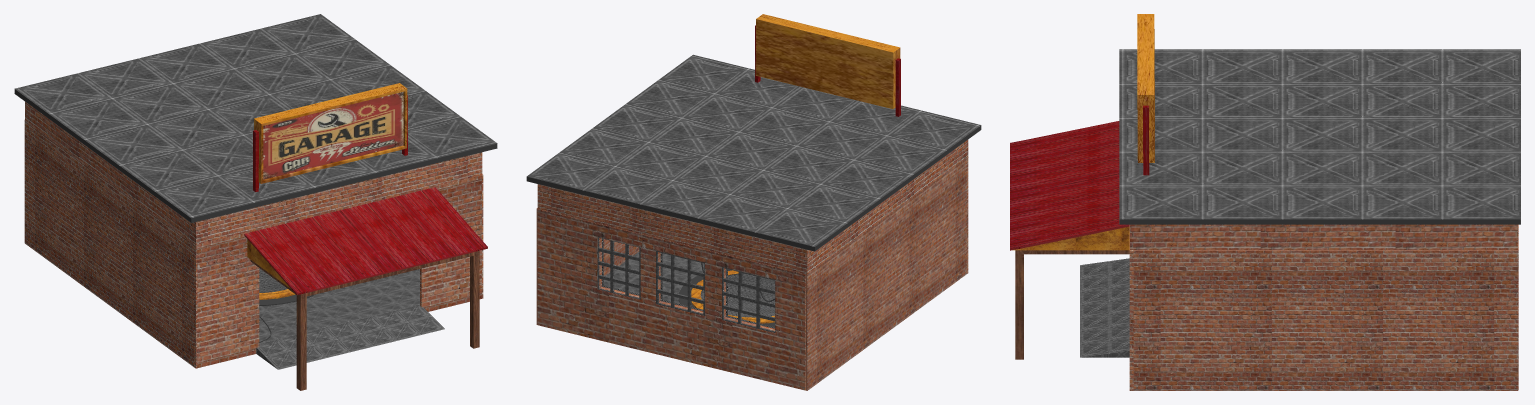
Rendered from garage.glb.
3 views of the same model, side by side, from view 1: azimuth 30°, elevation 25°; view 2: azimuth 150°, elevation 25°; view 3: azimuth 270°, elevation 25° (orthographic). The views are drawn at different scales.
Visible parts, largest first — view 1: Cube_Material.002_0, Plane_wALL_0, Cube.002_rEDmETAL.001_0, Plane.005_Material.001_0, Cube.018_Material.007_0, Circle_Wires_0, Cube.005_WoodenTable_0, Cube.001_Material.003_0, Circle_YellowMetal_0; view 2: Plane_wALL_0, Cube_Material.002_0, Cube.001_Material.003_0, Circle_Wires_0, Circle_ImageTexture_0, Plane.005_Material.001_0, Cube.002_rEDmETAL.001_0, Circle_YellowMetal_0; view 3: Cube_Material.002_0, Plane_wALL_0, Cube.002_rEDmETAL.001_0, Plane.005_Material.001_0, Circle_Wires_0, Cube.001_Material.003_0, Cube.005_WoodenTable_0, Circle_YellowMetal_0.
Part boxes in pixels (x1=…): Cube_Material.002_0: x1=14, y1=14, x2=497, y2=245; Plane_wALL_0: x1=24, y1=102, x2=483, y2=368; Cube.002_rEDmETAL.001_0: x1=244, y1=95, x2=487, y2=294; Plane.005_Material.001_0: x1=256, y1=269, x2=444, y2=369; Cube.018_Material.007_0: x1=263, y1=91, x2=403, y2=179; Circle_Wires_0: x1=14, y1=89, x2=497, y2=342; Cube.005_WoodenTable_0: x1=250, y1=251, x2=479, y2=390; Cube.001_Material.003_0: x1=254, y1=83, x2=407, y2=183; Circle_YellowMetal_0: x1=247, y1=239, x2=295, y2=299; Plane_wALL_0: x1=536, y1=140, x2=968, y2=390; Cube_Material.002_0: x1=527, y1=54, x2=980, y2=332; Cube.001_Material.003_0: x1=755, y1=14, x2=900, y2=108; Circle_Wires_0: x1=526, y1=125, x2=981, y2=326; Circle_ImageTexture_0: x1=602, y1=238, x2=774, y2=328; Plane.005_Material.001_0: x1=603, y1=251, x2=704, y2=303; Cube.002_rEDmETAL.001_0: x1=755, y1=25, x2=900, y2=116; Circle_YellowMetal_0: x1=691, y1=270, x2=774, y2=323; Cube_Material.002_0: x1=1119, y1=49, x2=1520, y2=224; Plane_wALL_0: x1=1129, y1=224, x2=1518, y2=390; Cube.002_rEDmETAL.001_0: x1=1010, y1=105, x2=1149, y2=250; Plane.005_Material.001_0: x1=1080, y1=258, x2=1129, y2=357; Circle_Wires_0: x1=1119, y1=219, x2=1520, y2=224; Cube.001_Material.003_0: x1=1137, y1=14, x2=1154, y2=162; Cube.005_WoodenTable_0: x1=1015, y1=250, x2=1129, y2=359; Circle_YellowMetal_0: x1=1013, y1=226, x2=1129, y2=250.
Bounding box in the file's own units: 17.17 × 12.1 × 21.84.
Materials: 16 (14 with a texture image).
